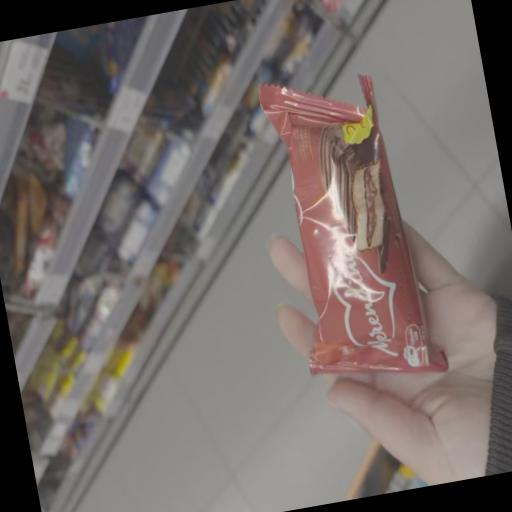merendina: (246, 50, 457, 400)
